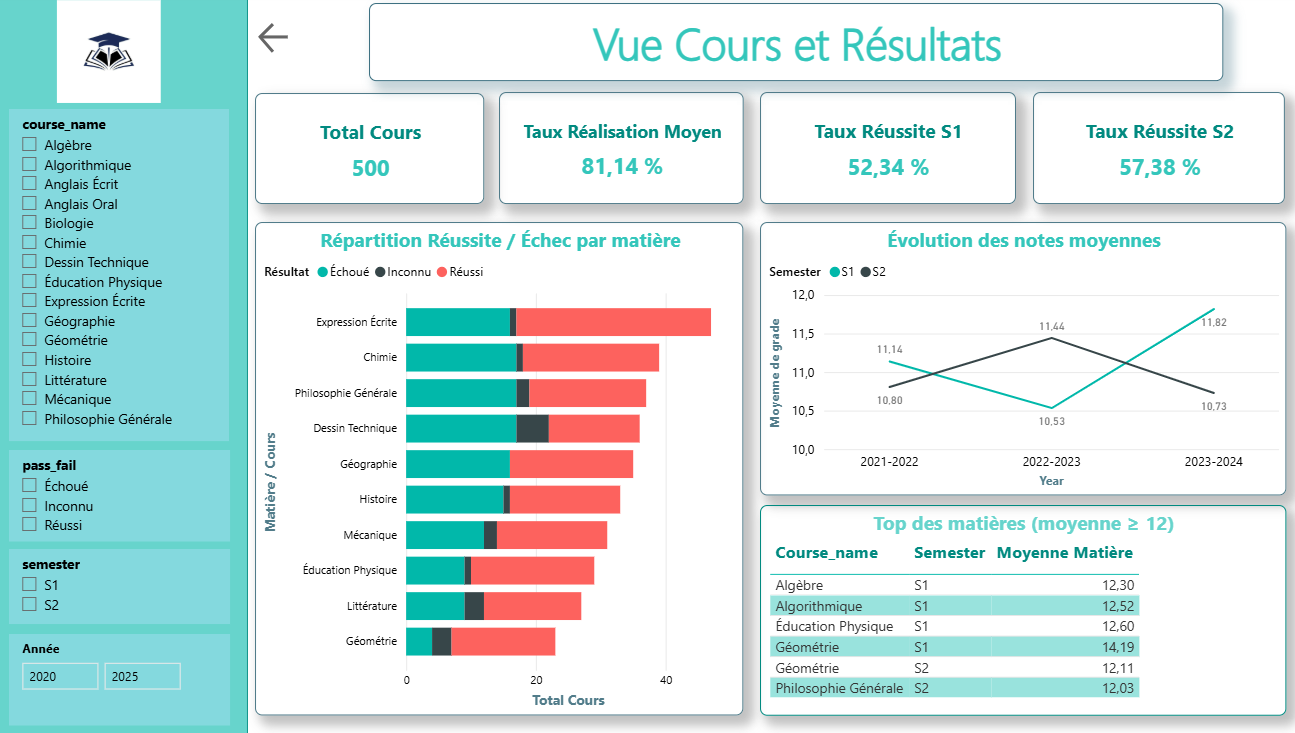

What the dashboard file says about the page in this screenshot:
{"tool":"powerbi","page":{"name":"Vue Cours et  Résultats","canvas":[1280,720],"ordinal":2},"visuals":[{"type":"shape","box":[10.7,0,243.2,719.8],"z":0},{"type":"textbox","box":[371.1,7.8,831.4,76.3],"z":1000},{"type":"cardVisual","fields":{"Data":["courses.Total Cours"]},"box":[260.3,95.8,223.1,108.2],"z":2000},{"type":"cardVisual","fields":{"Data":["courses.Taux Réalisation Moyen"]},"box":[498,94.3,238.3,108.9],"z":3000},{"type":"cardVisual","fields":{"Data":["courses.Taux Réussite S1"]},"box":[751.9,94.3,249,108.9],"z":4000},{"type":"cardVisual","fields":{"Data":["courses.Taux Réussite S2"]},"box":[1017.4,94.3,245.1,108.9],"z":5000},{"type":"slicer","fields":{"Values":["DimDate.Année"]},"box":[21.4,621.5,215,88.5],"z":6000},{"type":"slicer","fields":{"Values":["courses.course_name"]},"box":[21.4,110.4,214.1,323.4],"z":7000},{"type":"slicer","fields":{"Values":["courses.semester"]},"box":[21.4,538.6,215.2,73.2],"z":8000},{"type":"slicer","fields":{"Values":["courses.pass_fail"]},"box":[21.4,442.8,215.2,89],"z":9000},{"type":"image","box":[0,0,236.6,110.4],"z":10000},{"type":"barChart","title":"Répartition Réussite / Échec par matière","fields":{"Category":["courses.course_name"],"Series":["courses.pass_fail"],"Y":["courses.Total Cours"]},"box":[260.3,220.8,475.5,480],"z":11000},{"type":"lineChart","title":"Évolution des notes moyennes","fields":{"Category":["courses.year"],"Series":["courses.semester"],"Y":["Avg(courses.grade)"]},"box":[751.5,220.8,511.5,265.9],"z":12000},{"type":"actionButton","box":[259.9,22,99.6,38.8],"z":13000},{"type":"tableEx","title":"Top des matières (moyenne ≥ 12)","fields":{"Values":["courses.course_name","courses.semester","courses.Moyenne Matière"]},"box":[751.5,495.8,511.5,205.1],"z":14000}]}

Visuals, with their boxes on the page's 1280x720 design canvas (x1, y1, x2, y2). These are canvas units, not pixel positions in the 1295x733 screenshot, which may show the page scaled, cropped or inside an application window:
shape: pyautogui.locateOnScreen(11, 0, 254, 720)
textbox: pyautogui.locateOnScreen(371, 8, 1202, 84)
cardVisual - courses.Total Cours: pyautogui.locateOnScreen(260, 96, 483, 204)
cardVisual - courses.Taux Réalisation Moyen: pyautogui.locateOnScreen(498, 94, 736, 203)
cardVisual - courses.Taux Réussite S1: pyautogui.locateOnScreen(752, 94, 1001, 203)
cardVisual - courses.Taux Réussite S2: pyautogui.locateOnScreen(1017, 94, 1262, 203)
slicer - DimDate.Année: pyautogui.locateOnScreen(21, 622, 236, 710)
slicer - courses.course_name: pyautogui.locateOnScreen(21, 110, 236, 434)
slicer - courses.semester: pyautogui.locateOnScreen(21, 539, 237, 612)
slicer - courses.pass_fail: pyautogui.locateOnScreen(21, 443, 237, 532)
image: pyautogui.locateOnScreen(0, 0, 237, 110)
"Répartition Réussite / Échec par matière" barChart: pyautogui.locateOnScreen(260, 221, 736, 701)
"Évolution des notes moyennes" lineChart: pyautogui.locateOnScreen(752, 221, 1263, 487)
actionButton: pyautogui.locateOnScreen(260, 22, 360, 61)
"Top des matières (moyenne ≥ 12)" tableEx: pyautogui.locateOnScreen(752, 496, 1263, 701)
